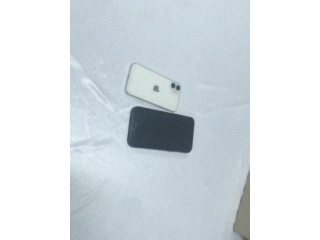phone: (126, 106, 194, 153), (125, 63, 181, 112)
